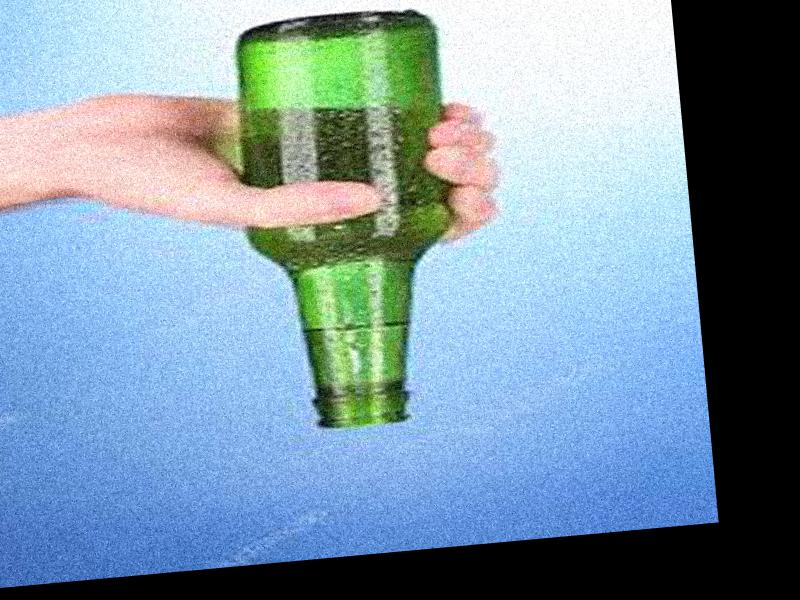Beer: (233, 4, 467, 435)
